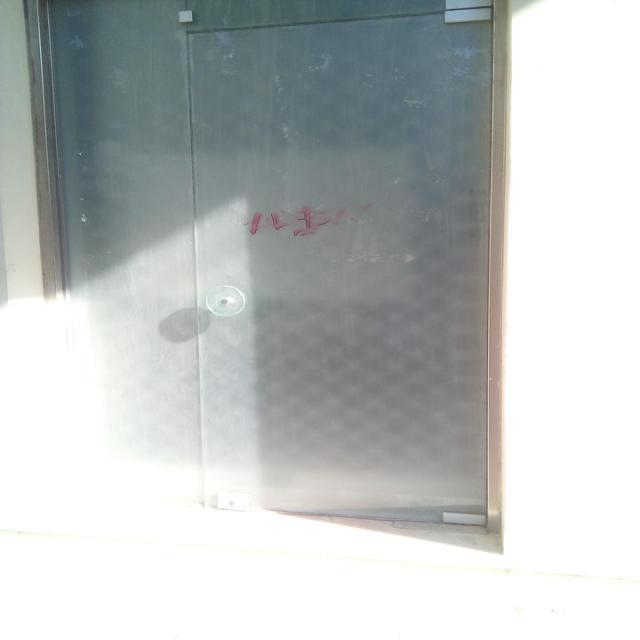nonspitting: (248, 206, 372, 235)
